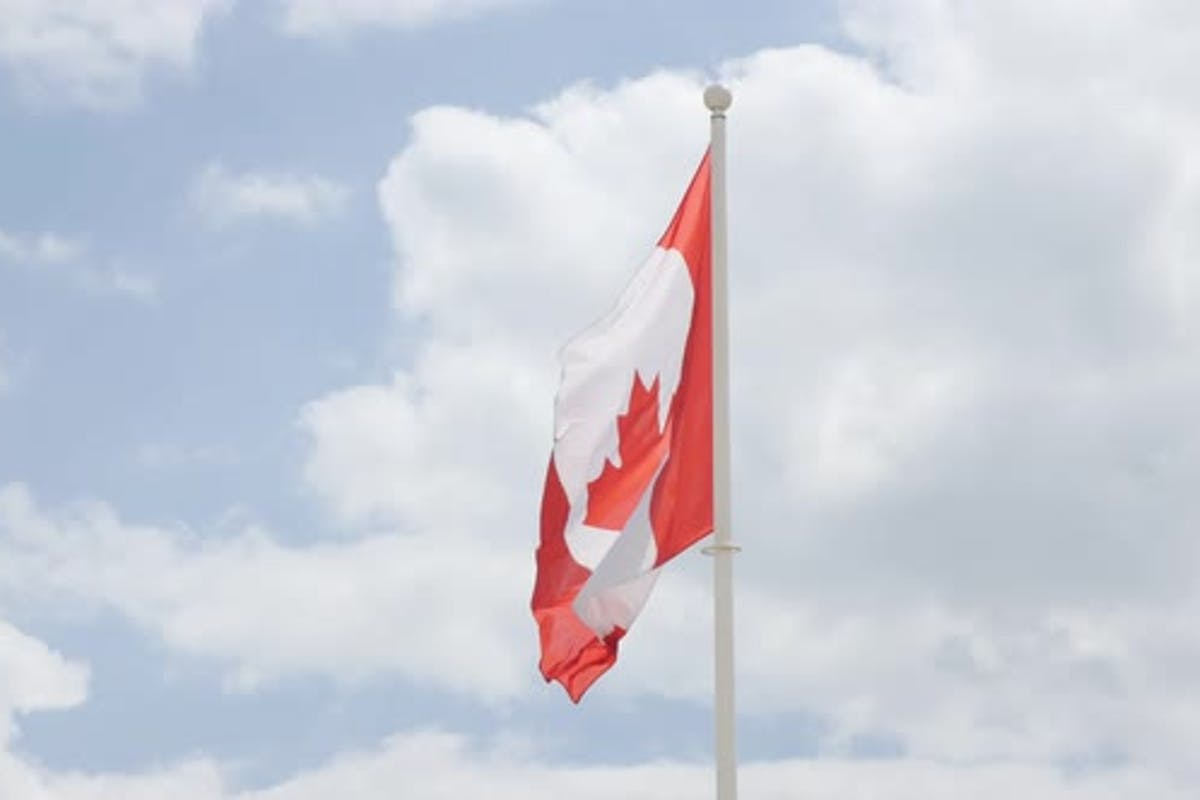Canada flag: (524, 144, 714, 708)
